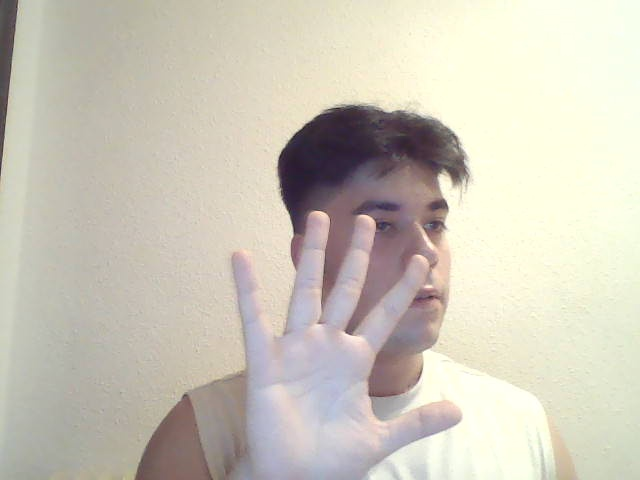Hola: (205, 208, 462, 472)
